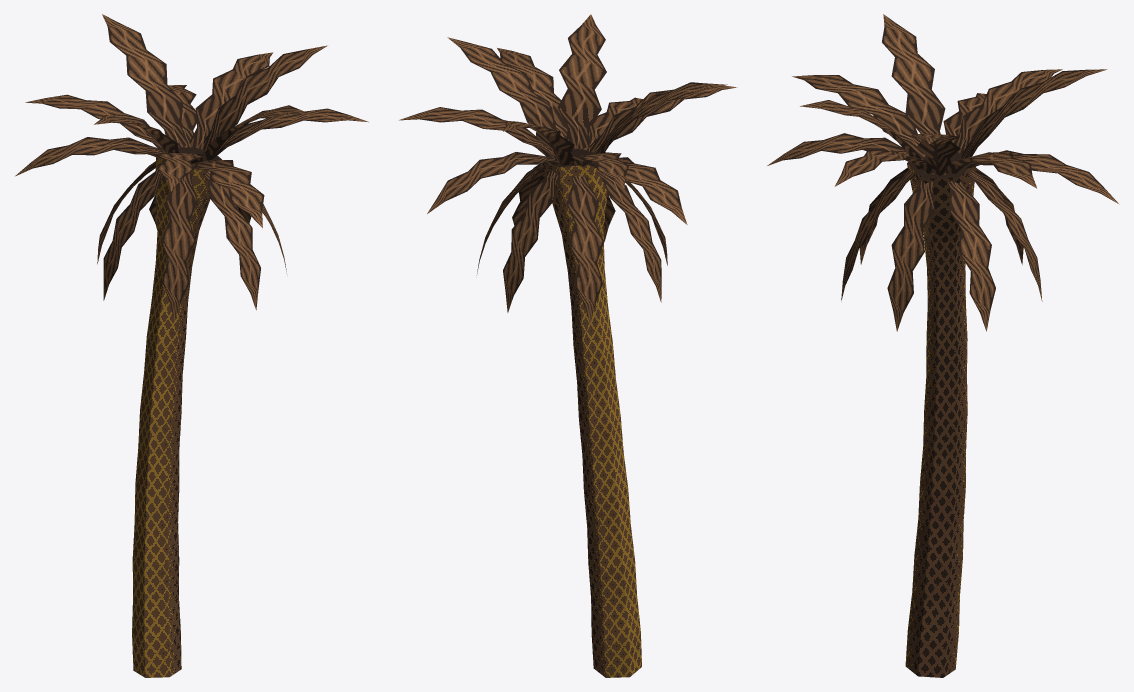
The model's file is FLO-13_Palma_de_estopa_c.gltf.
3 renders of one model, left to right at view 1: azimuth 30°, elevation 25°; view 2: azimuth 150°, elevation 25°; view 3: azimuth 270°, elevation 25°, orthographic. The views are drawn at different scales.
Parts seen in each view (by area): view 1: FLO-13_Palma_de_estopa_c; view 2: FLO-13_Palma_de_estopa_c; view 3: FLO-13_Palma_de_estopa_c.
Part boxes in pixels (x1,y1,x2,y2): FLO-13_Palma_de_estopa_c: (15, 14, 368, 677); FLO-13_Palma_de_estopa_c: (399, 14, 737, 677); FLO-13_Palma_de_estopa_c: (767, 14, 1119, 677).
Size of what is drawn, in the model's own units: 2.24 by 4.55 by 2.37.
Materials: 1 (1 with a texture image).
